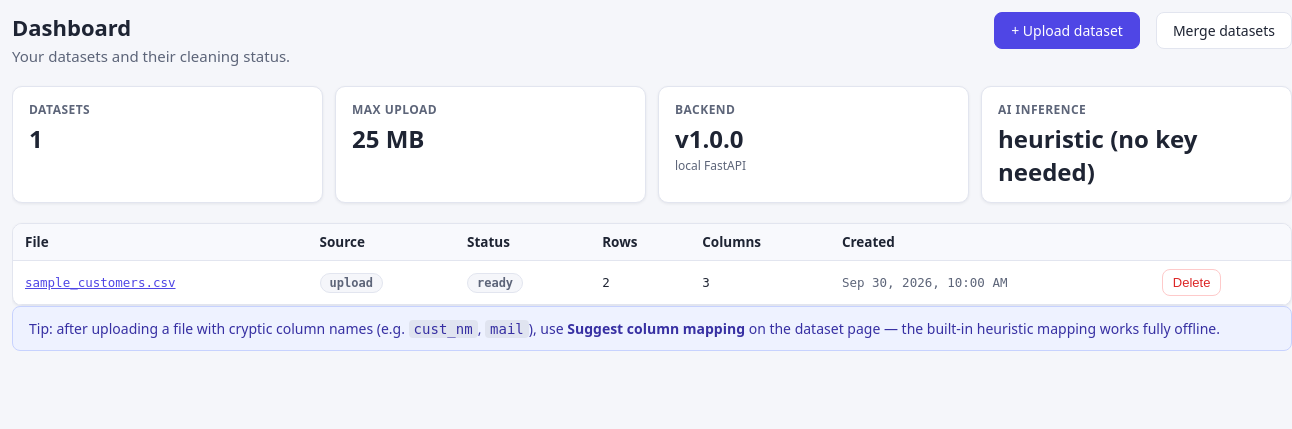
DashboardPage › shows an error banner when deleting fails
Click the button "Delete" at {"x": 1192, "y": 282}, box left=1162, top=269, right=1222, bottom=296
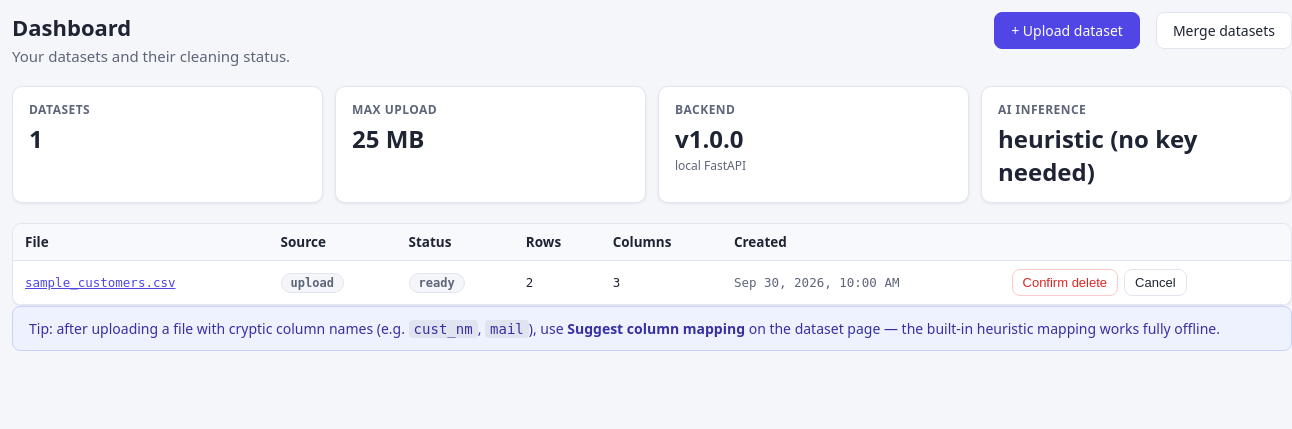
Click the button with test id "confirm-delete" at {"x": 1065, "y": 282}, box left=1012, top=269, right=1118, bottom=296
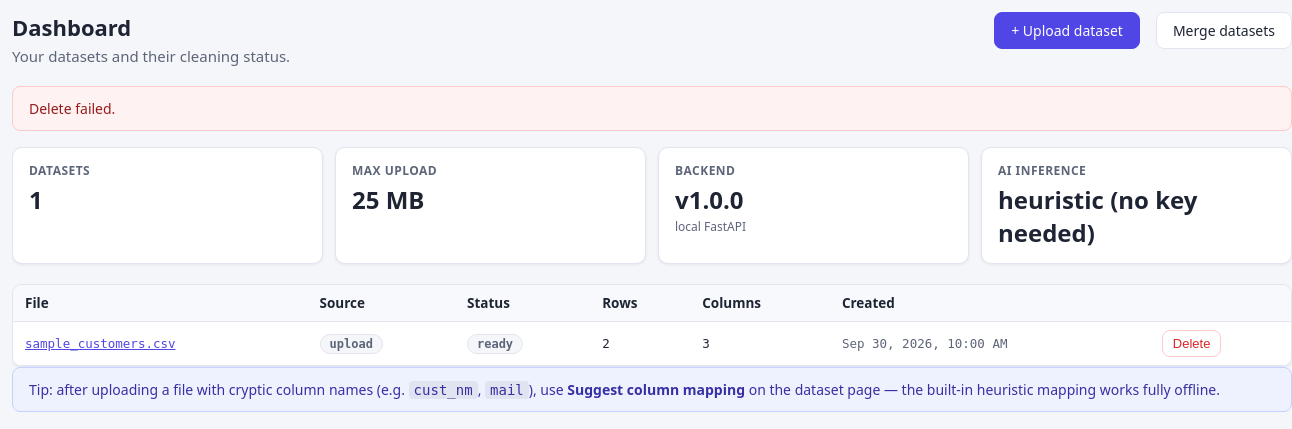
Check: the message reads "Delete failed.", box left=29, top=99, right=115, bottom=118
